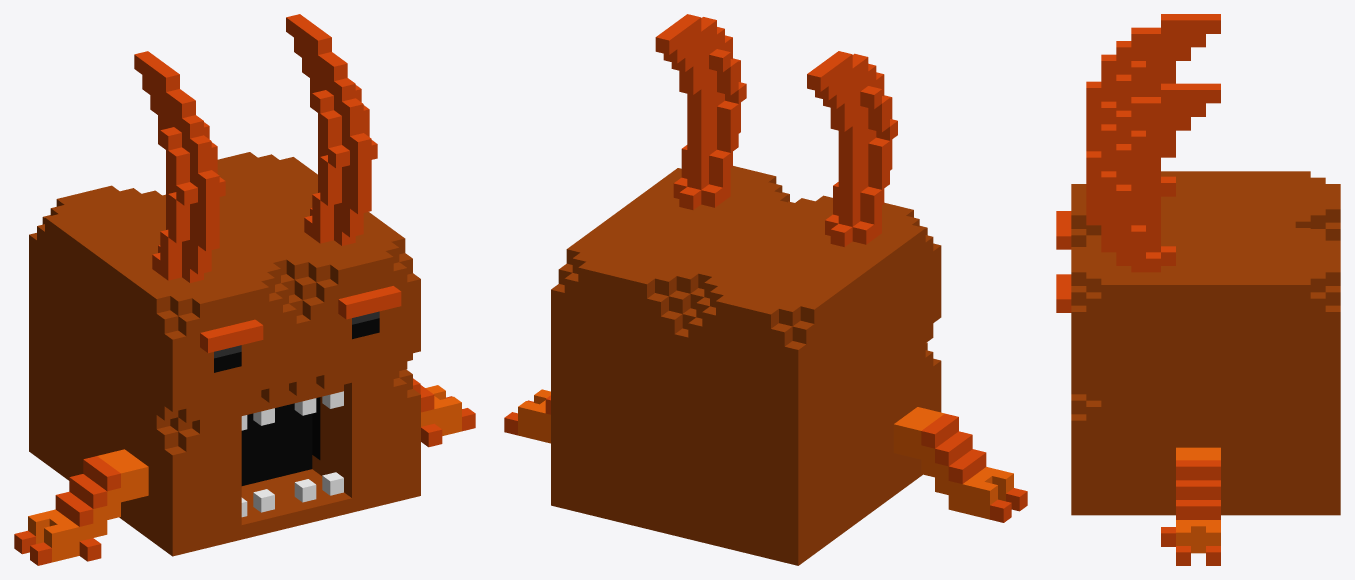
The model's file is monster1_run1.obj.
3 views of the same model, side by side, from view 1: azimuth 30°, elevation 25°; view 2: azimuth 150°, elevation 25°; view 3: azimuth 270°, elevation 25° (orthographic). The views are drawn at different scales.
Parts seen in each view (by area): view 1: monster1_run1; view 2: monster1_run1; view 3: monster1_run1.
Part boxes in pixels (x1,y1,x2,y2): monster1_run1: (14,14,475,565); monster1_run1: (504,14,1027,565); monster1_run1: (1056,14,1340,565).
Size of the model in its own units: 34 by 30 by 19.
1 material, 1 textured.
